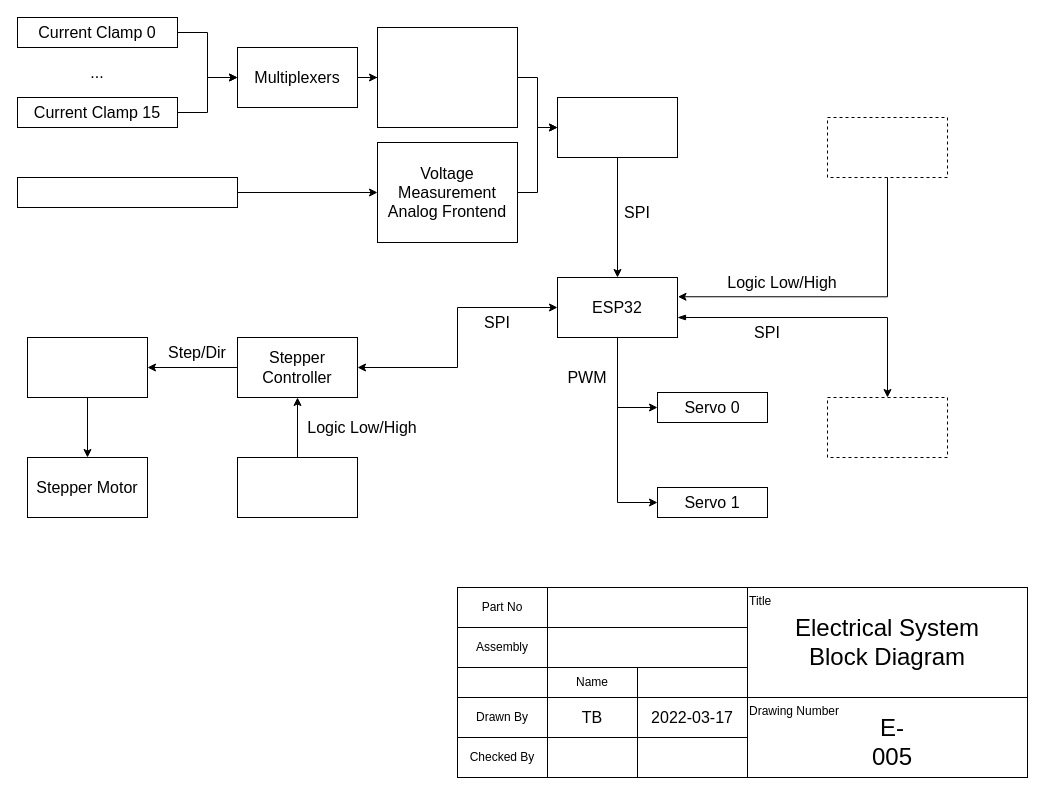
Some shapes in this 1045 by 795 pixel diagram are drawn without their labels. The centre of each missing label's shape, as x and y in pixels:
ADC: point 617,127
Current Measurement Analog Frontend: point 447,77
Date: point 692,682
Door Sensor: point 887,147
Limit Switch: point 297,487
Line Voltage Measurement: point 127,192
SD Card: point 887,427
Stepper Driver: point 87,367
